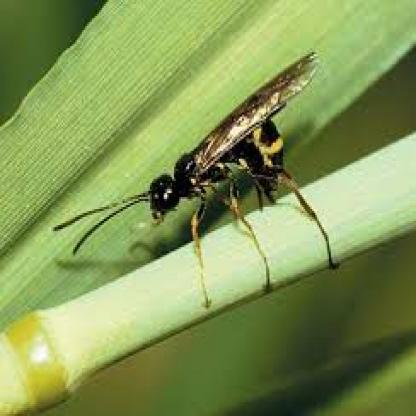sawfly: (50, 48, 348, 294)
